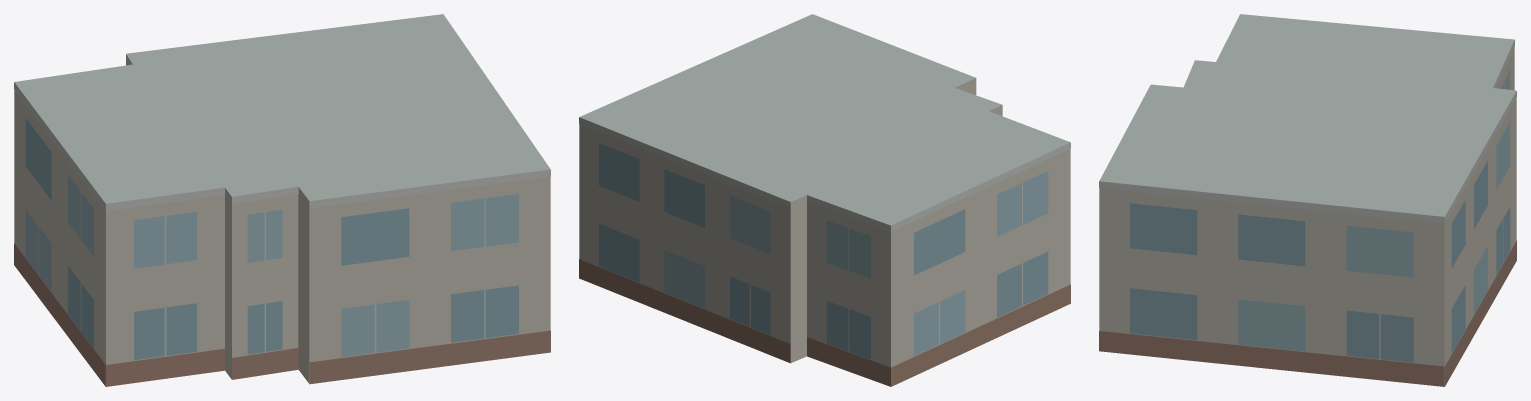
File: survey-upis-32640486.glb
3 renders of one model, left to right at view 1: azimuth 30°, elevation 25°; view 2: azimuth 150°, elevation 25°; view 3: azimuth 270°, elevation 25°, orthographic. The views are drawn at different scales.
Parts seen in each view (by area): view 1: survey-upis-32640486.tmp; view 2: survey-upis-32640486.tmp; view 3: survey-upis-32640486.tmp.
Part boxes in pixels (bbox=[...]): survey-upis-32640486.tmp: bbox=[14, 14, 550, 386]; survey-upis-32640486.tmp: bbox=[579, 14, 1070, 386]; survey-upis-32640486.tmp: bbox=[1099, 14, 1516, 386].
Bounding box in the file's own units: 15.63 × 6.1 × 13.6.
